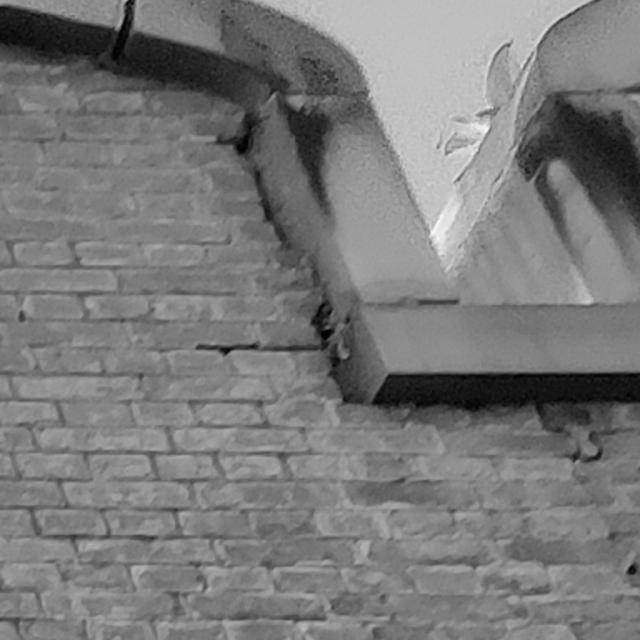crack: (195, 111, 346, 402)
